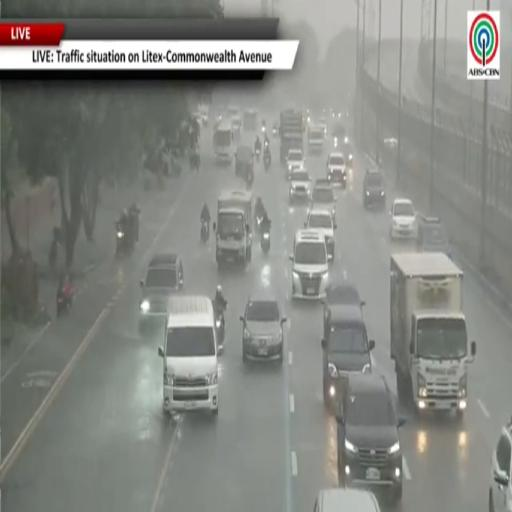car: (336, 373, 405, 504), (158, 296, 218, 417), (322, 303, 374, 406), (140, 252, 184, 324), (240, 295, 286, 362), (290, 230, 328, 299), (322, 282, 365, 337), (489, 418, 511, 511), (304, 208, 336, 261), (313, 488, 380, 511), (417, 216, 452, 258), (390, 198, 416, 239), (311, 180, 336, 220), (363, 169, 386, 210), (289, 168, 311, 203), (327, 152, 347, 188), (286, 149, 305, 178), (236, 146, 253, 177), (341, 137, 354, 169), (243, 109, 257, 131), (331, 121, 345, 141), (231, 116, 241, 137), (319, 117, 327, 136)
motorcycle: (116, 223, 133, 257), (57, 290, 73, 317), (214, 311, 224, 352), (49, 238, 58, 274), (261, 230, 270, 254), (189, 152, 200, 171), (201, 221, 209, 243), (255, 214, 263, 232), (264, 152, 271, 170), (246, 171, 253, 188), (255, 149, 260, 163), (273, 127, 278, 137)
truck: (390, 252, 476, 418), (214, 190, 252, 266), (280, 109, 304, 164), (214, 121, 233, 163), (307, 124, 324, 153)
